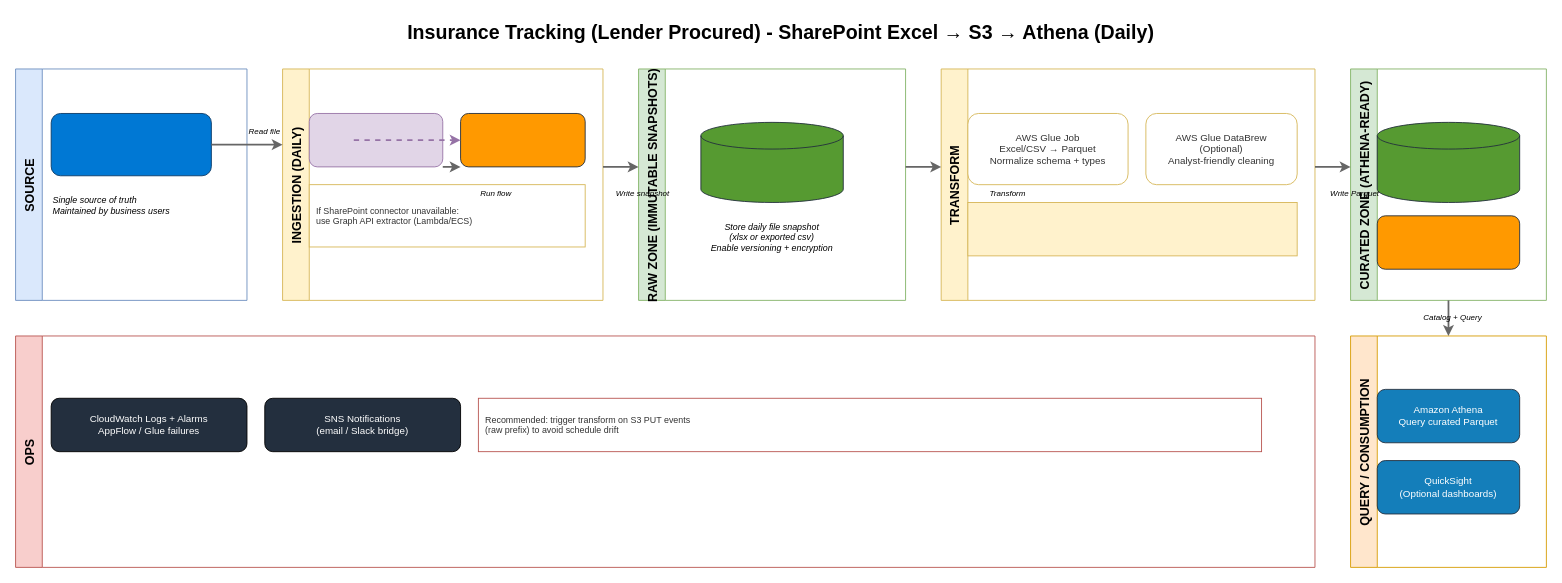
The diagram is 1562 pixels wide and 583 high, and some of its shapes have lost their labels. Each missing label, with the centre of its shape:
"Amazon AppFlow SharePoint → S3" goes at point (522, 140).
"Amazon S3 curated/insurance_tracking/ dt=YYYY-MM-DD/" goes at point (1448, 161).
"Amazon S3 raw/insurance_tracking/ dt=YYYY-MM-DD/" goes at point (771, 161).
"EventBridge Scheduler cron(0 5 * * ? *)" goes at point (375, 140).
"Glue Data Catalog Database + Table (partitioned by dt)" goes at point (1448, 242).
"Output: Parquet + partitions (dt) Compression: Snappy" goes at point (1132, 229).
"SharePoint Online Insurance Tracking.xlsx" goes at point (130, 144).
